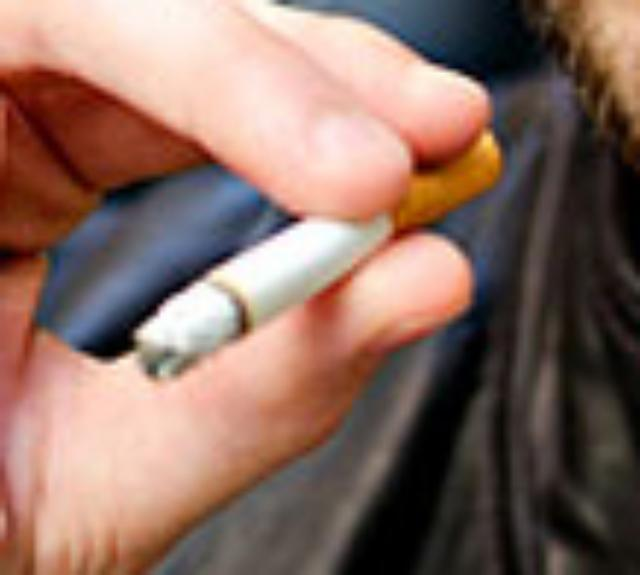Cigarette: (123, 117, 504, 387)
